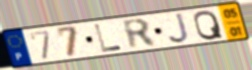7: (55, 25, 83, 59), (28, 28, 52, 61)
J: (168, 11, 192, 45)
L: (93, 23, 124, 53)
Q: (192, 9, 225, 42)
R: (120, 18, 160, 51)
